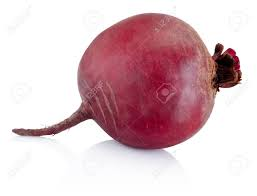beet: (12, 14, 239, 149)
